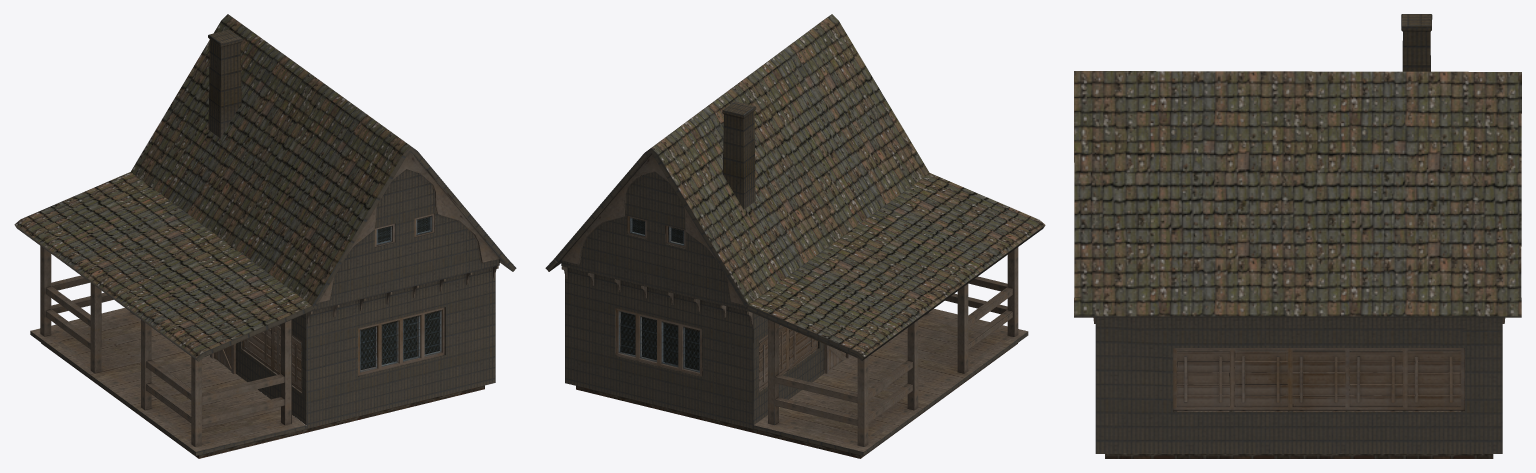
The model's file is 01_medieval_house_low_poly.glb.
The picture shows the model from 3 angles, left to right: view 1: azimuth 30°, elevation 25°; view 2: azimuth 150°, elevation 25°; view 3: azimuth 270°, elevation 25°; orthographic projection. The views are drawn at different scales.
Visible parts, largest first — view 1: 01_med_house_lp; view 2: 01_med_house_lp; view 3: 01_med_house_lp.
Boxes of the visible parts, x1,y1,x2,y2 form: 01_med_house_lp: (14,14,516,458); 01_med_house_lp: (545,14,1045,458); 01_med_house_lp: (1074,14,1521,458).
Size of the model in its own units: 9.13 by 7.96 by 9.
Materials: 1 (1 with a texture image).
